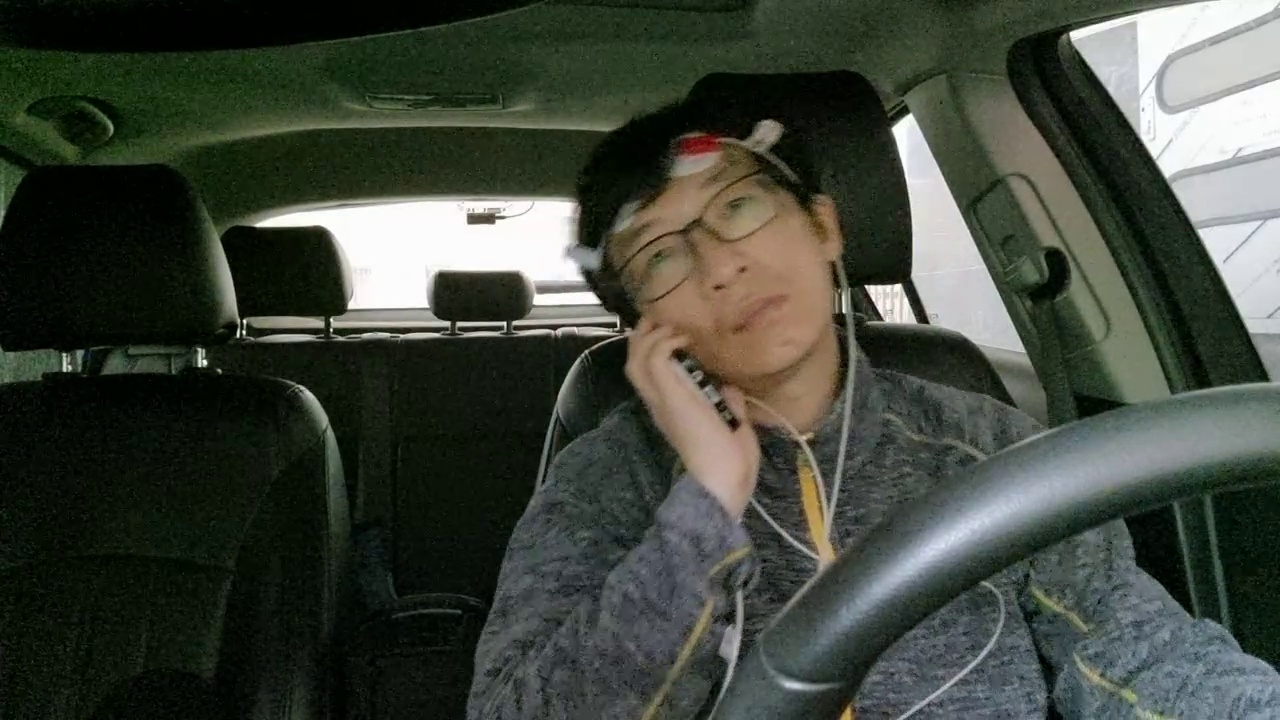phone: (573, 302, 767, 460)
